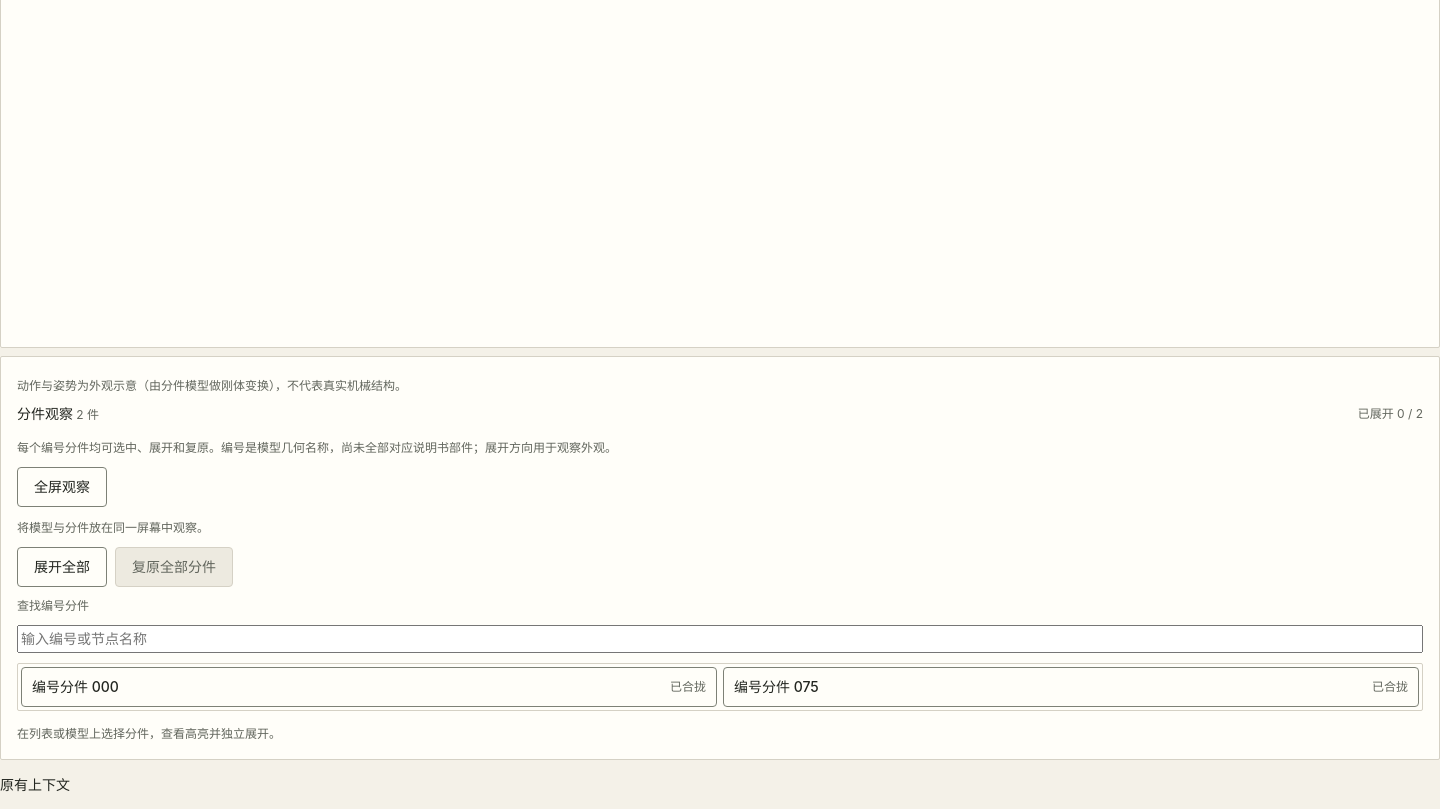
Scenario: 分件全屏观察 › 浏览器拒绝全屏时提示可读错误并可再次尝试，不影响当前分件操作
(page scrolled)
Click the button with test id "parts-fullscreen".
click(62, 487)  # box [17, 467, 107, 507]
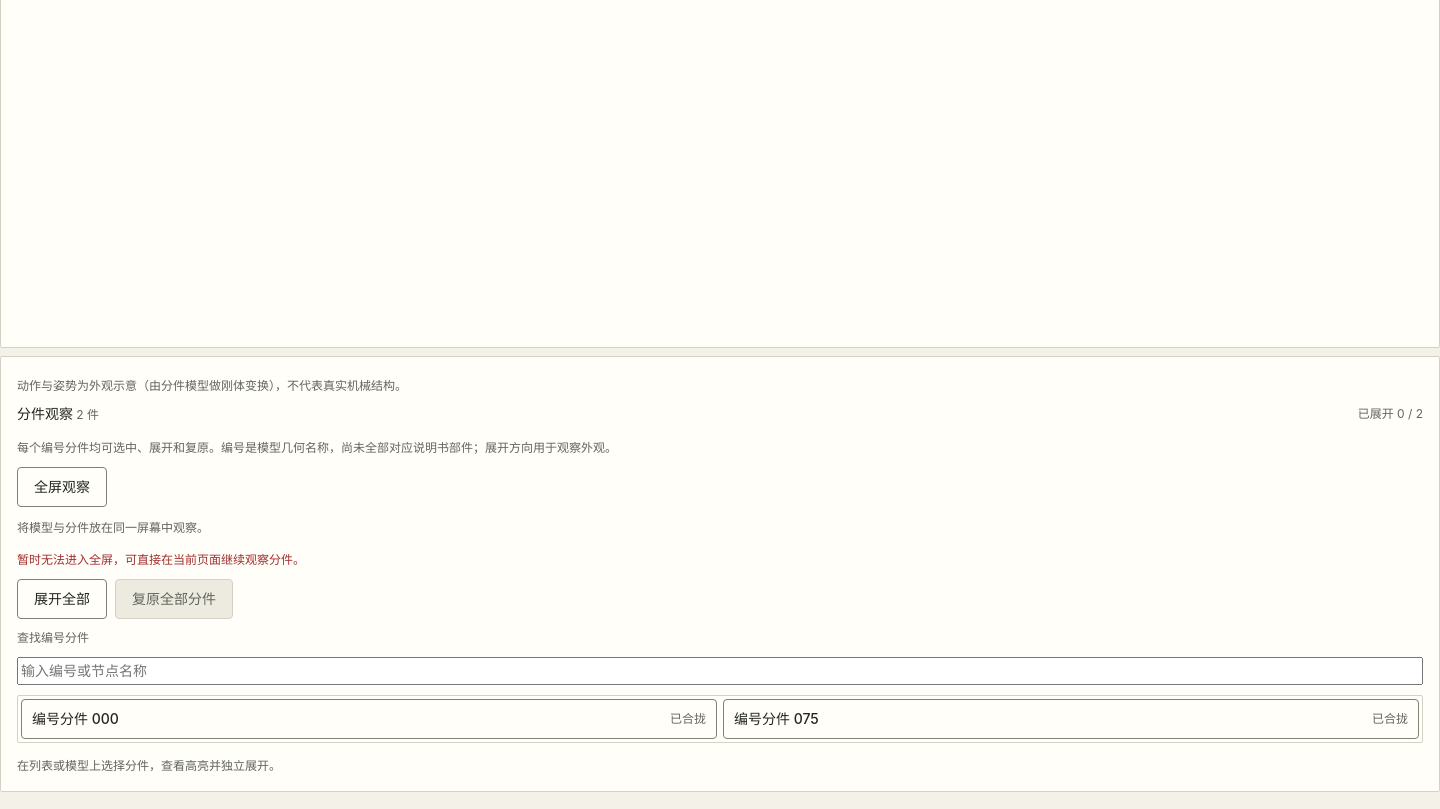
Expected: the message "暂时无法进入全屏，可直接在当前页面继续观察分件。" is shown, [17, 552, 305, 567]
Click the button with test id "inspect-node-tripo_part_75".
click(776, 718)  # box [723, 699, 1419, 739]
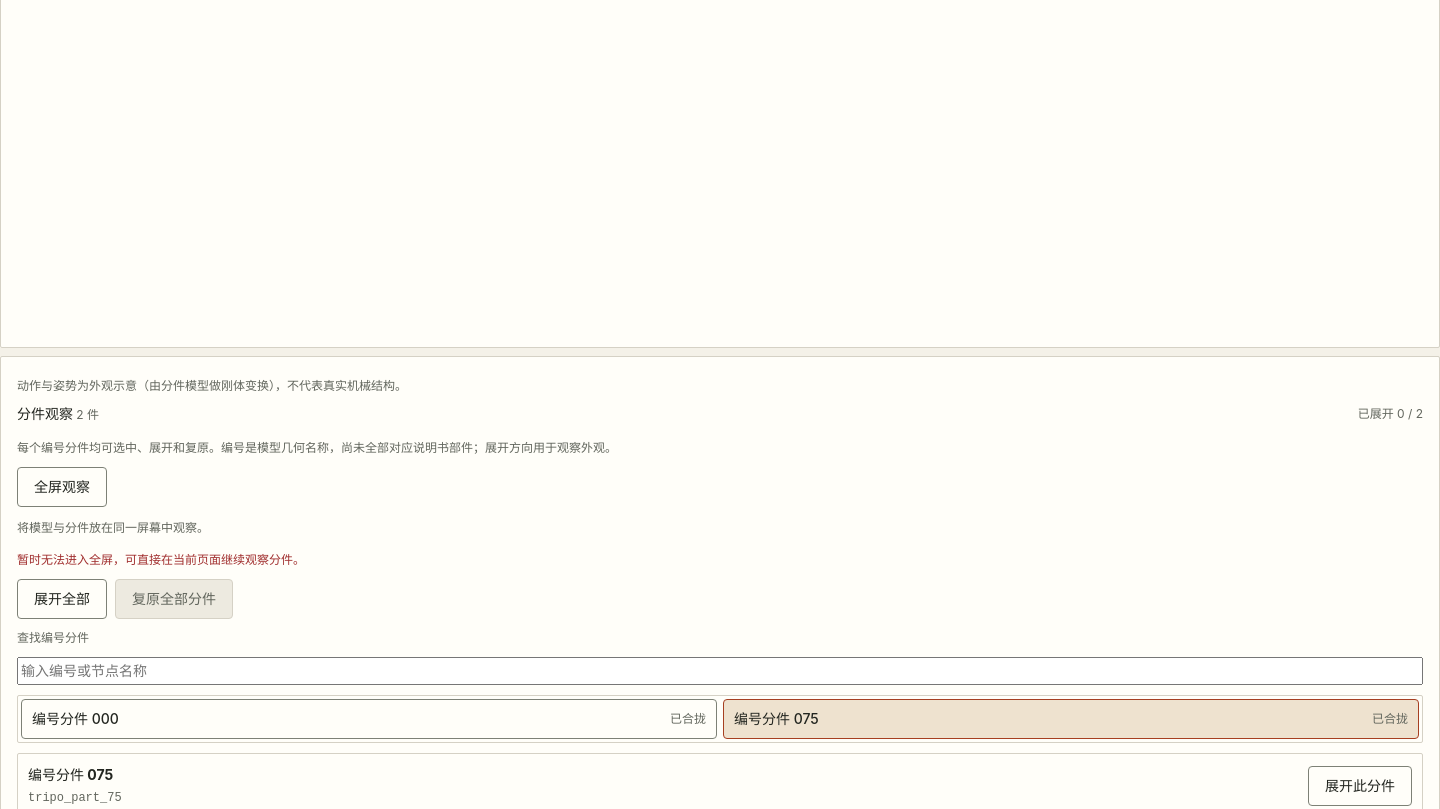
Click the button with test id "part-inspection-toggle".
click(1360, 786)  # box [1308, 766, 1412, 806]
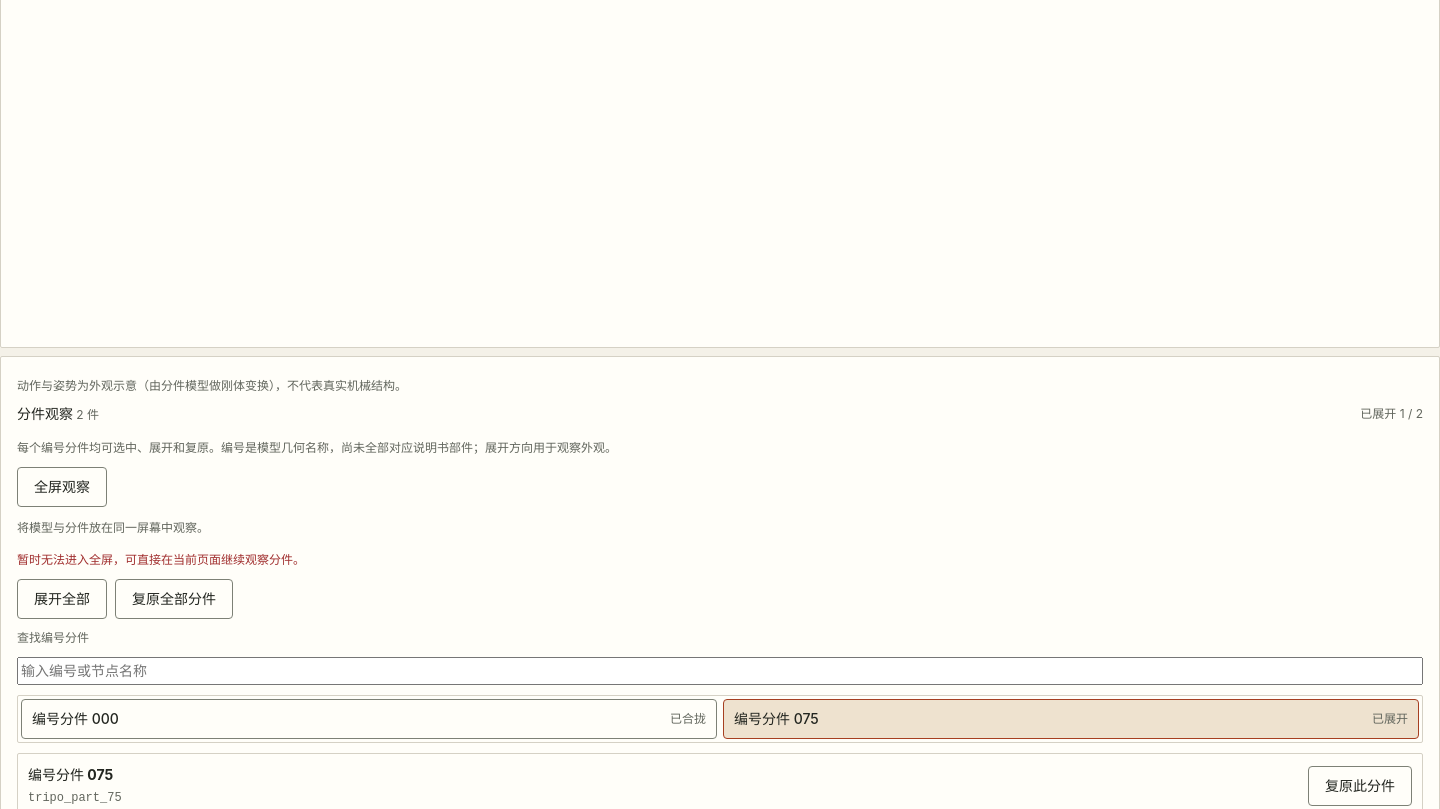
Expected: the message with test id "parts-expanded-count" reads "已展开 1 / 2", [1360, 405, 1423, 423]
Click the button with test id "parts-fullscreen".
click(62, 487)  # box [17, 467, 107, 507]
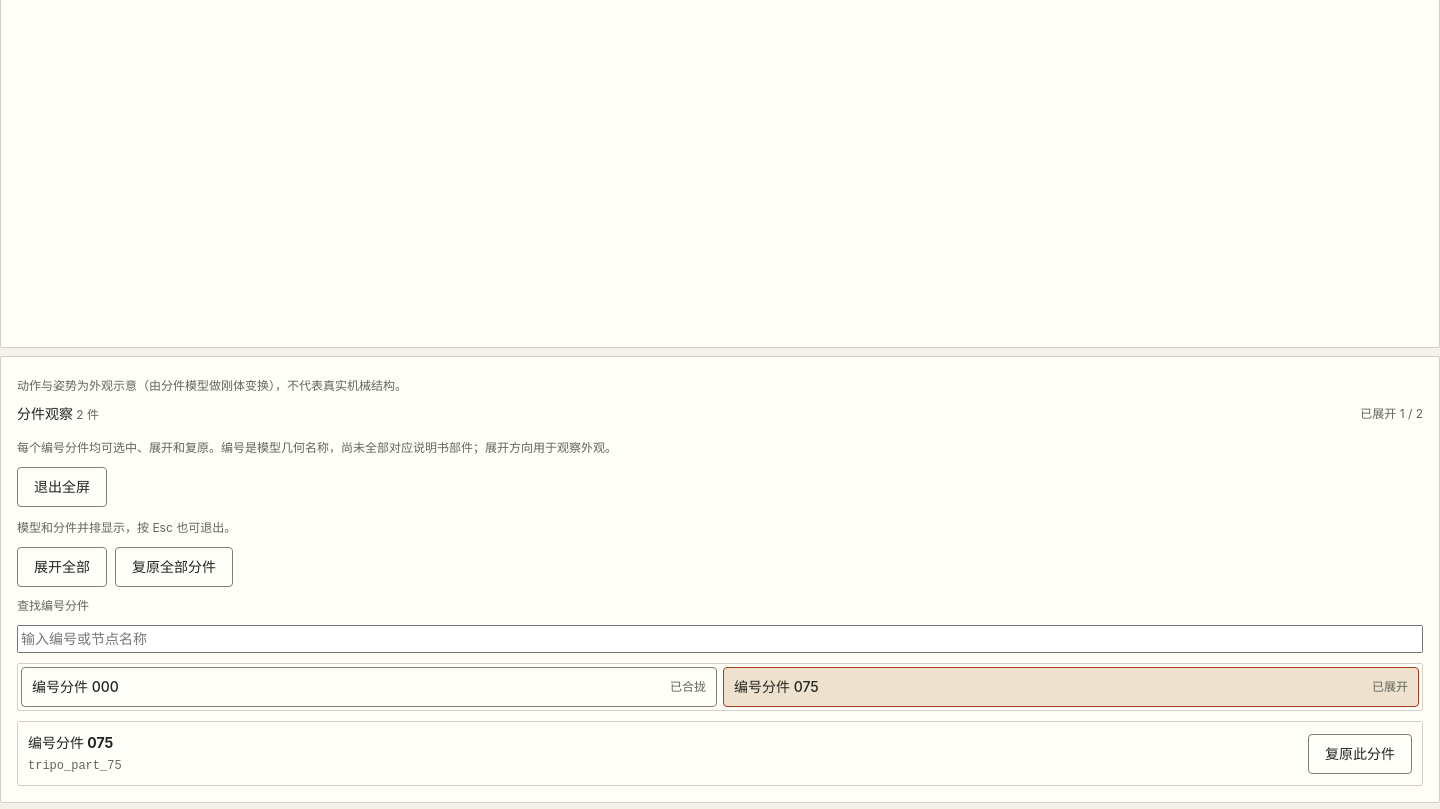
Expected: the button with test id "parts-fullscreen" reads "退出全屏", [17, 467, 107, 507]
Expected: the message "暂时无法进入全屏，可直接在当前页面继续观察分件。" is gone
